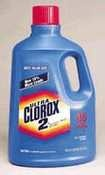grozi_14: (4, 5, 96, 170)
